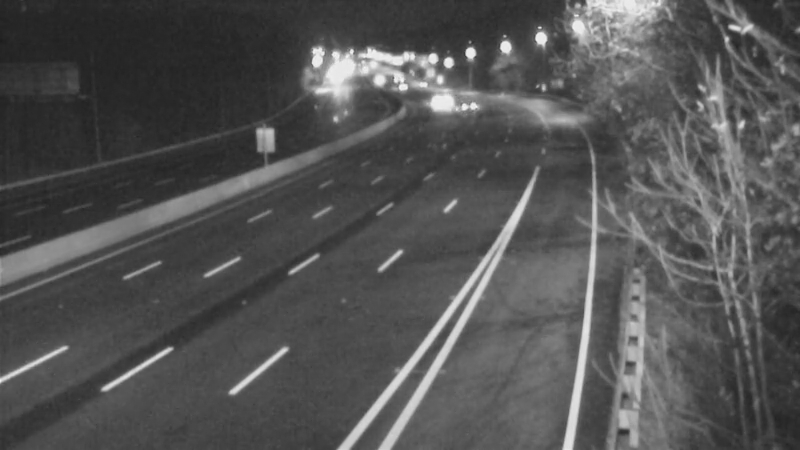vehicle: (372, 54, 422, 104), (353, 54, 403, 104), (375, 63, 425, 113), (405, 75, 455, 125), (440, 78, 490, 128)
